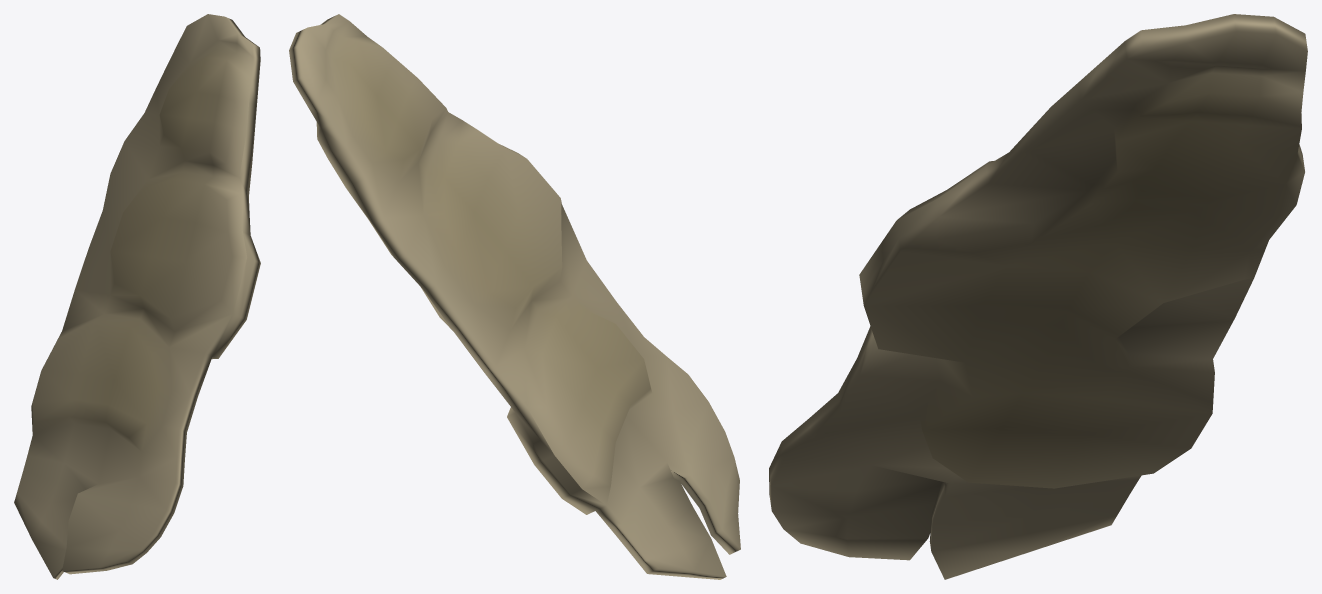
Rendered from microscopic-dust-particles-skin-flake_v4.glb.
3 renders of one model, left to right at view 1: azimuth 30°, elevation 25°; view 2: azimuth 150°, elevation 25°; view 3: azimuth 270°, elevation 25°, orthographic. The views are drawn at different scales.
Parts seen in each view (by area): view 1: Skin Flake_v4; view 2: Skin Flake_v4; view 3: Skin Flake_v4.
Boxes of the visible parts, bbox=[...] form: Skin Flake_v4: bbox=[14, 14, 260, 579]; Skin Flake_v4: bbox=[289, 14, 740, 579]; Skin Flake_v4: bbox=[769, 14, 1307, 579].
Bounding box in the file's own units: 0.3131 × 0.5 × 0.3129.
